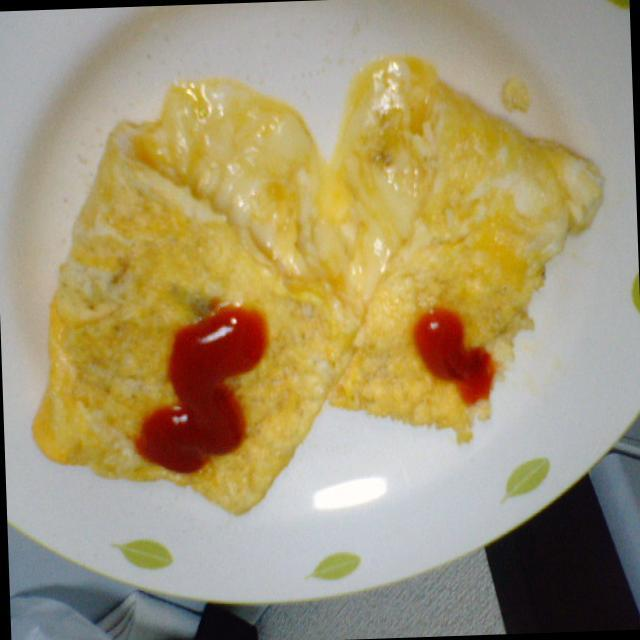Omelet: (28, 82, 617, 538)
